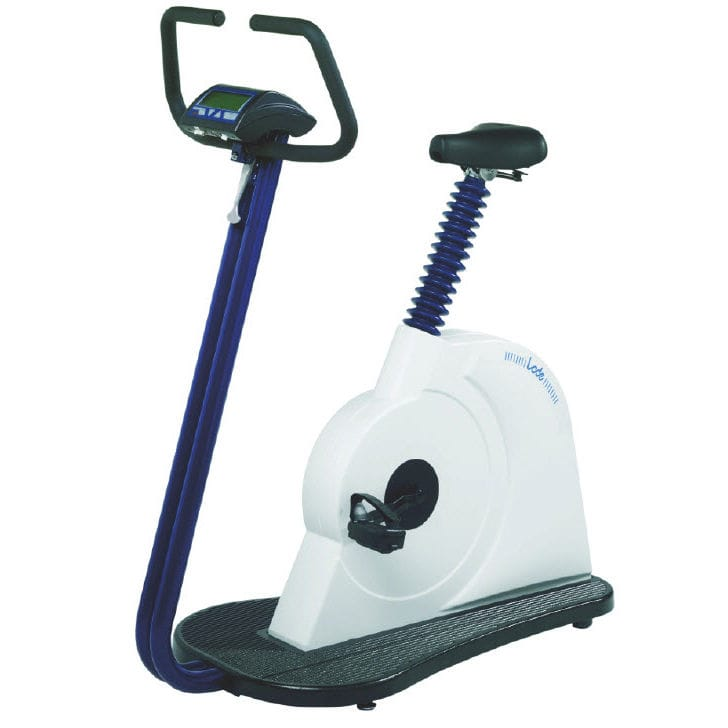gym_bike: (113, 1, 639, 704)
